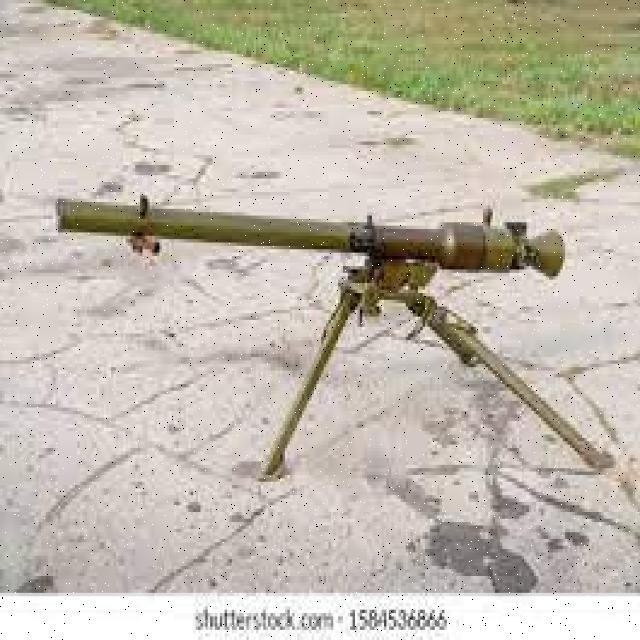bazooka: (48, 183, 617, 498)
